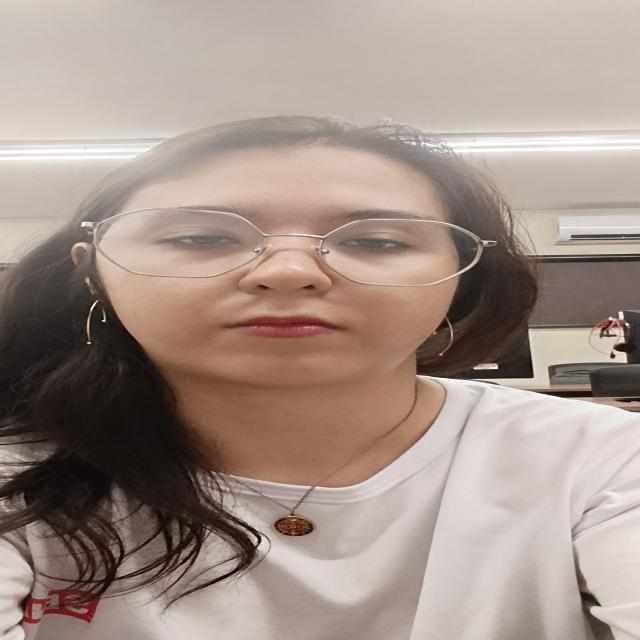sem_oculos: (82, 207, 496, 288)
